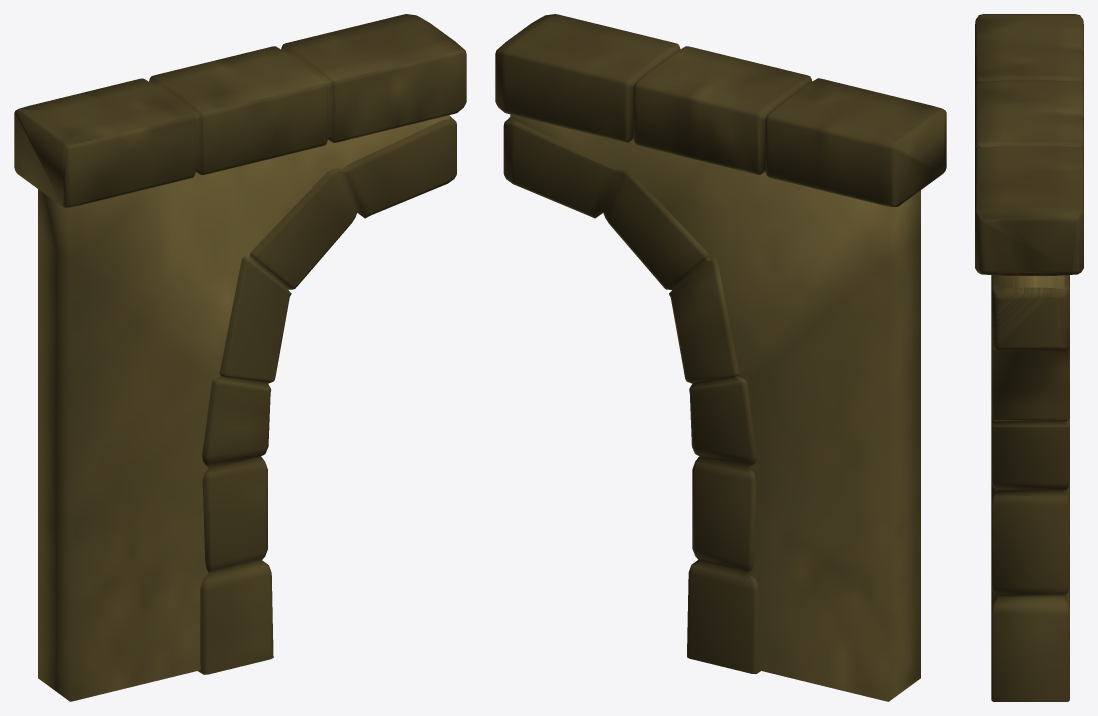
Rendered from Wall_10.fbx.
The picture shows the model from 3 angles, left to right: view 1: azimuth 30°, elevation 25°; view 2: azimuth 150°, elevation 25°; view 3: azimuth 270°, elevation 25°; orthographic projection. The views are drawn at different scales.
Parts seen in each view (by area): view 1: Wall_10; view 2: Wall_10; view 3: Wall_10.
Part boxes in pixels (x1,y1,x2,y2): Wall_10: [14, 14, 466, 701]; Wall_10: [495, 14, 946, 701]; Wall_10: [975, 14, 1083, 701].
Size of the model in its own units: 328 by 443 by 74.99.
2 materials, 2 textured.
